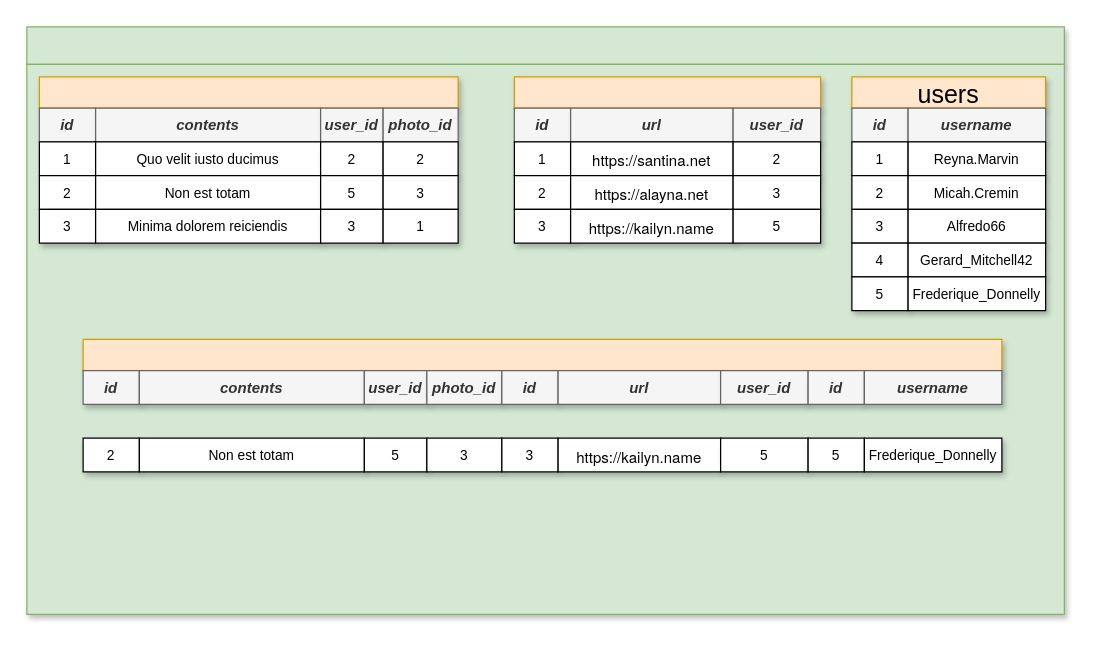
Some shapes in this 1094 by 645 pixel diagram are drawn without their labels. The shapes that lost their labels are listed below. From the top down, each one's centre as x and y in pixels, then its label:
point 546,47: Database
point 249,94: comments
point 668,94: photos
point 543,356: comments with photos with users
